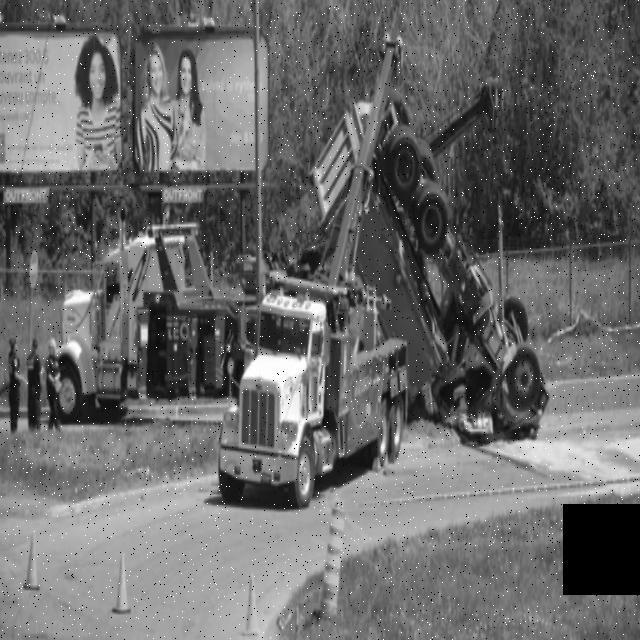multiple_accident: (277, 111, 640, 450)
